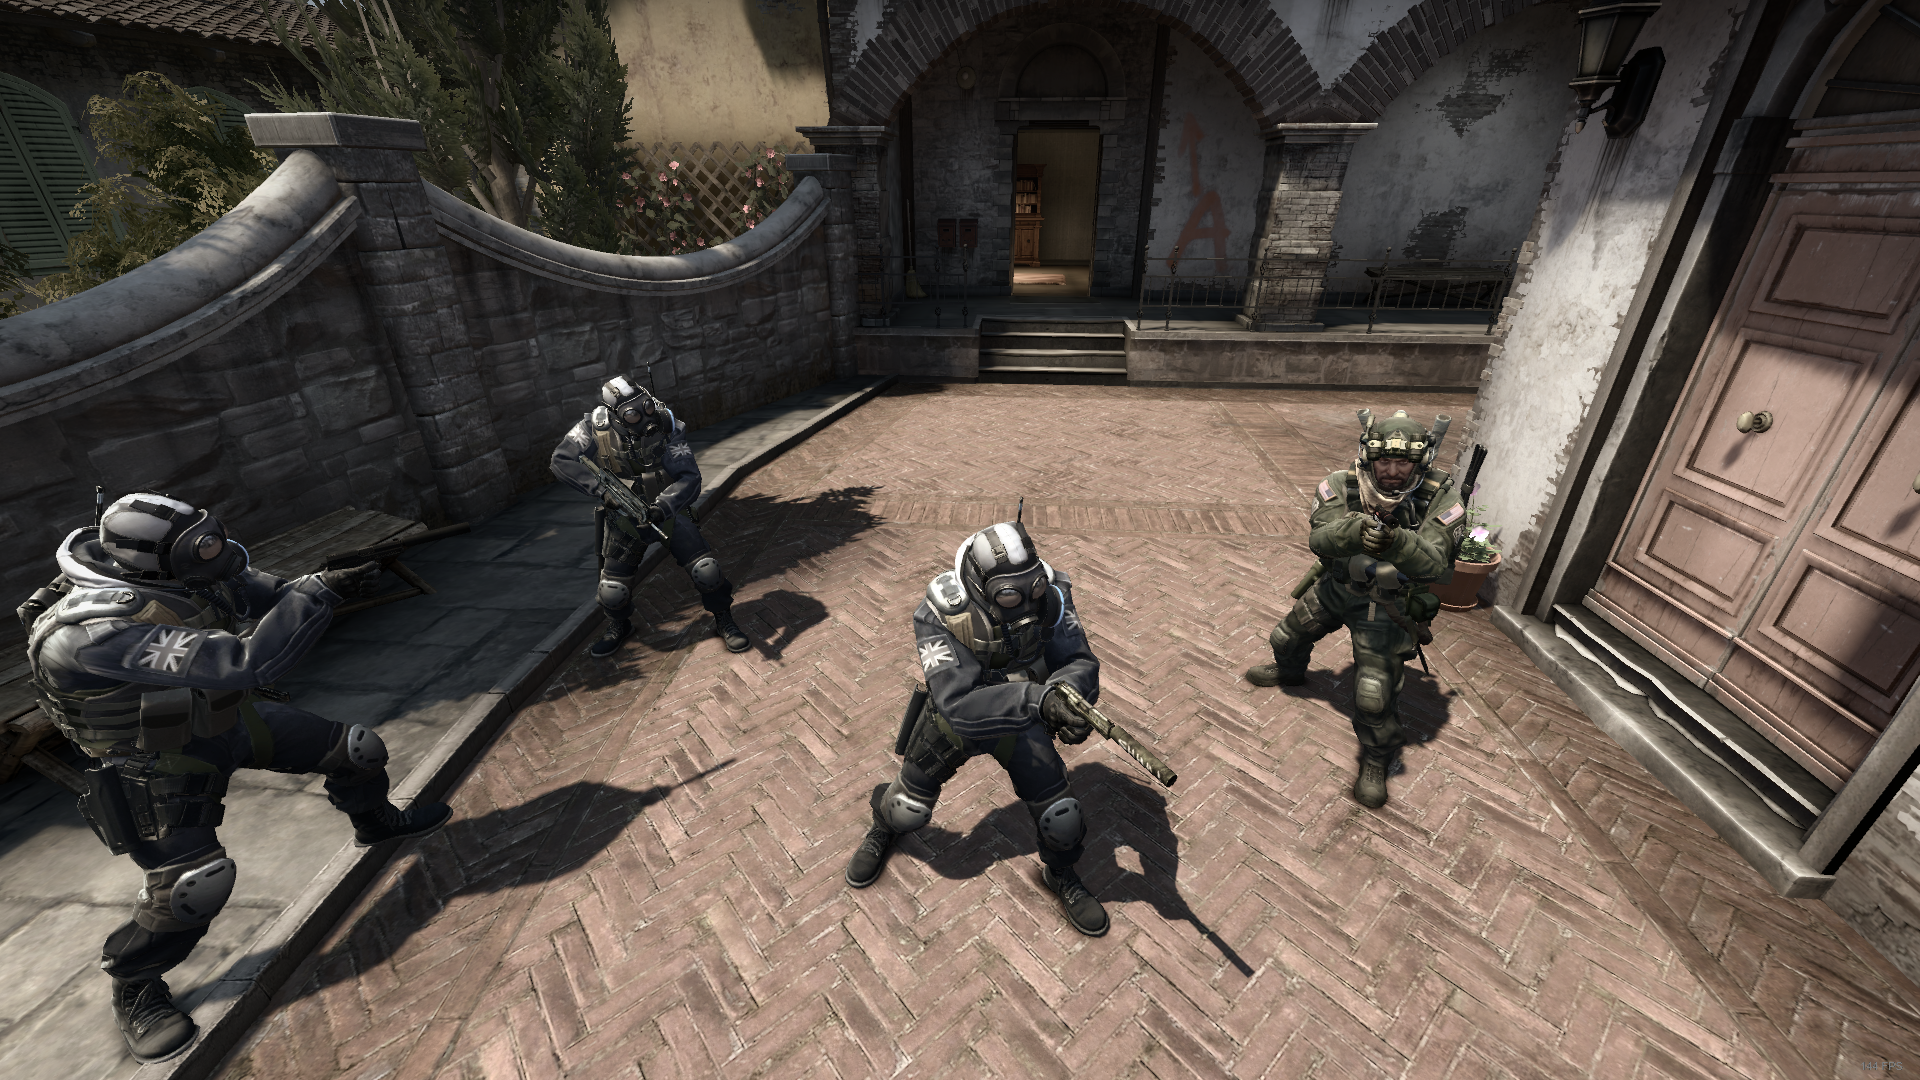ct: (20, 492, 451, 1059), (845, 520, 1110, 928), (550, 375, 750, 655)
